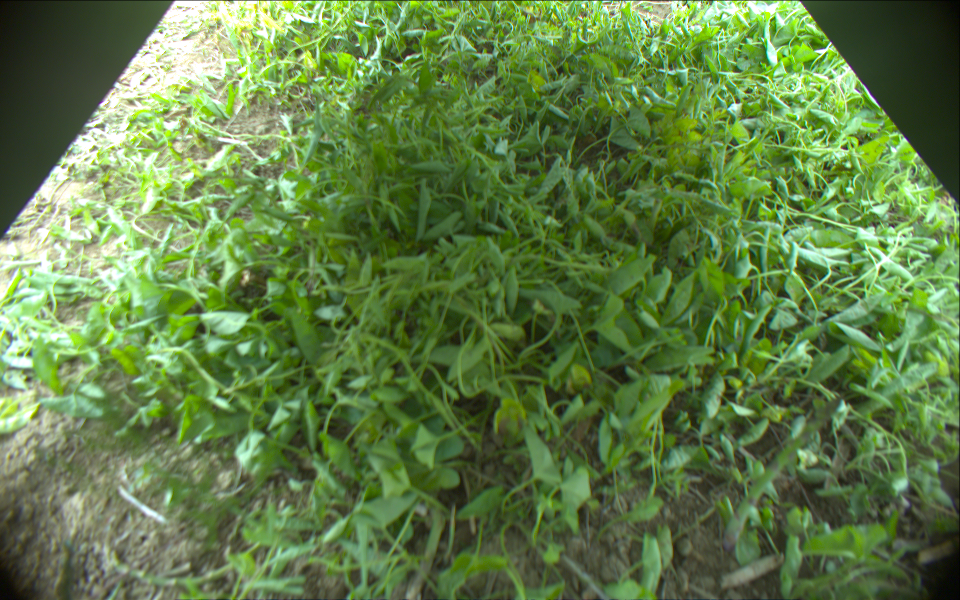aspa: (723, 396, 844, 542)
